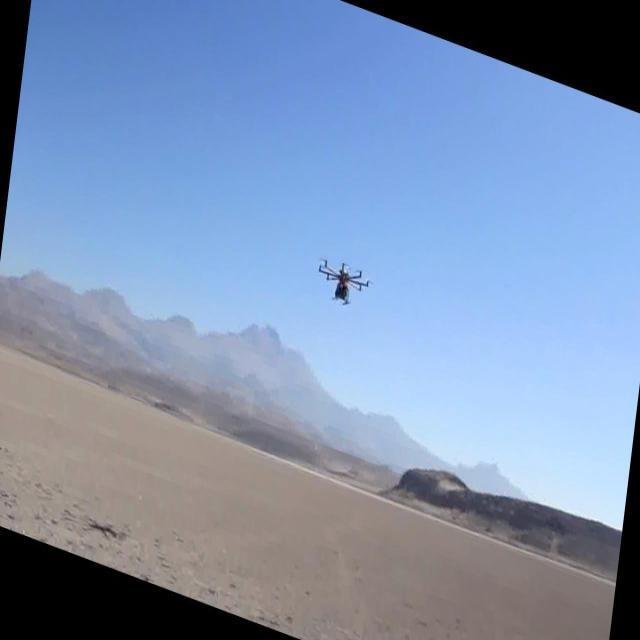drone: (312, 251, 377, 323)
